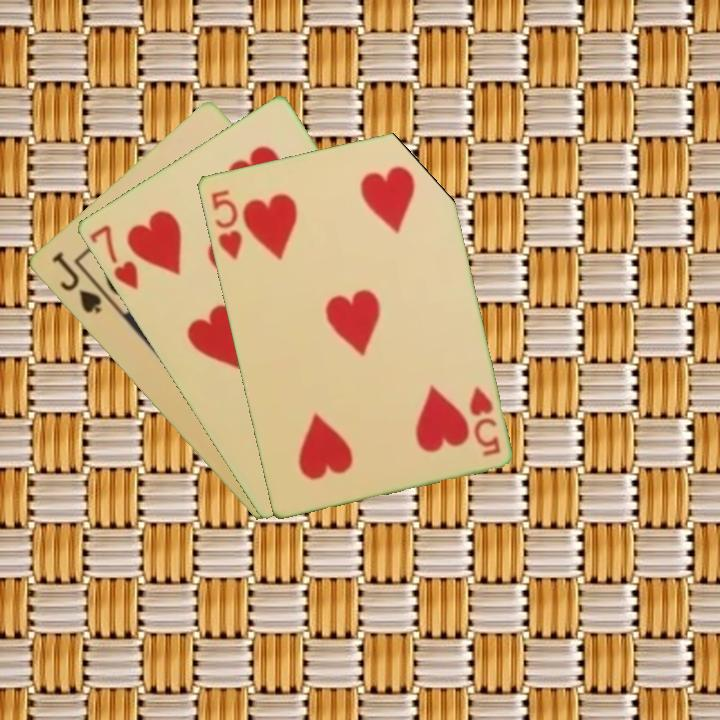5h: (465, 382, 503, 459), (207, 186, 245, 262)
7h: (85, 220, 141, 293)
Js: (48, 248, 104, 317)
